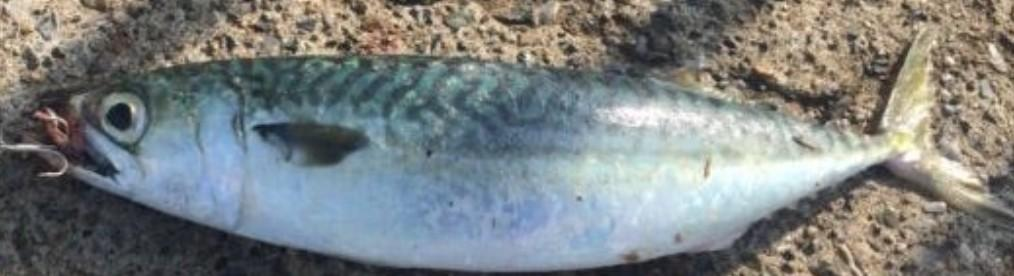fish: (63, 48, 1013, 271)
